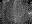person: (28, 11, 31, 15)
